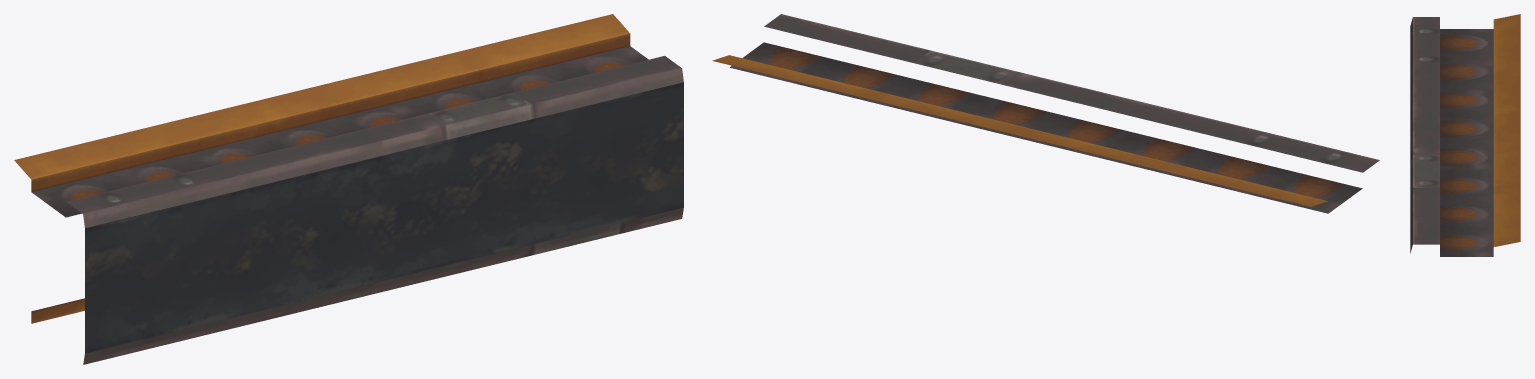
Rendered from conveyor_x4_01.glb.
The picture shows the model from 3 angles, left to right: view 1: azimuth 30°, elevation 25°; view 2: azimuth 150°, elevation 25°; view 3: azimuth 270°, elevation 25°; orthographic projection. The views are drawn at different scales.
Parts seen in each view (by area): view 1: factory.conveyor_x4_01-MeshNodes["belt_on"], factory.conveyor_x4_01-MeshNodes["conveyor_base"]; view 2: factory.conveyor_x4_01-MeshNodes["conveyor_base"]; view 3: factory.conveyor_x4_01-MeshNodes["conveyor_base"].
Boxes of the visible parts, x1=… form: factory.conveyor_x4_01-MeshNodes["belt_on"]: x1=85, y1=82, x2=683, y2=353; factory.conveyor_x4_01-MeshNodes["conveyor_base"]: x1=14, y1=14, x2=683, y2=364; factory.conveyor_x4_01-MeshNodes["conveyor_base"]: x1=712, y1=14, x2=1379, y2=213; factory.conveyor_x4_01-MeshNodes["conveyor_base"]: x1=1410, y1=14, x2=1520, y2=256.
Size of the model in its own units: 4 by 1.01 by 0.82.
Materials: 2 (2 with a texture image).
